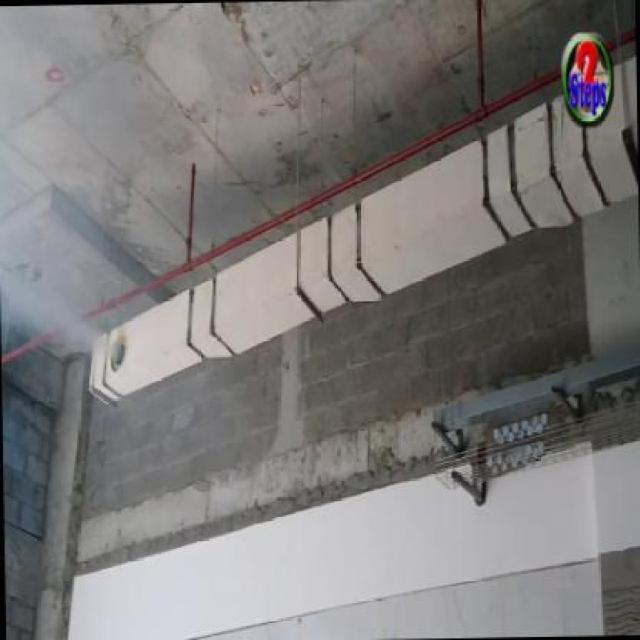fire: (28, 270, 116, 366)
